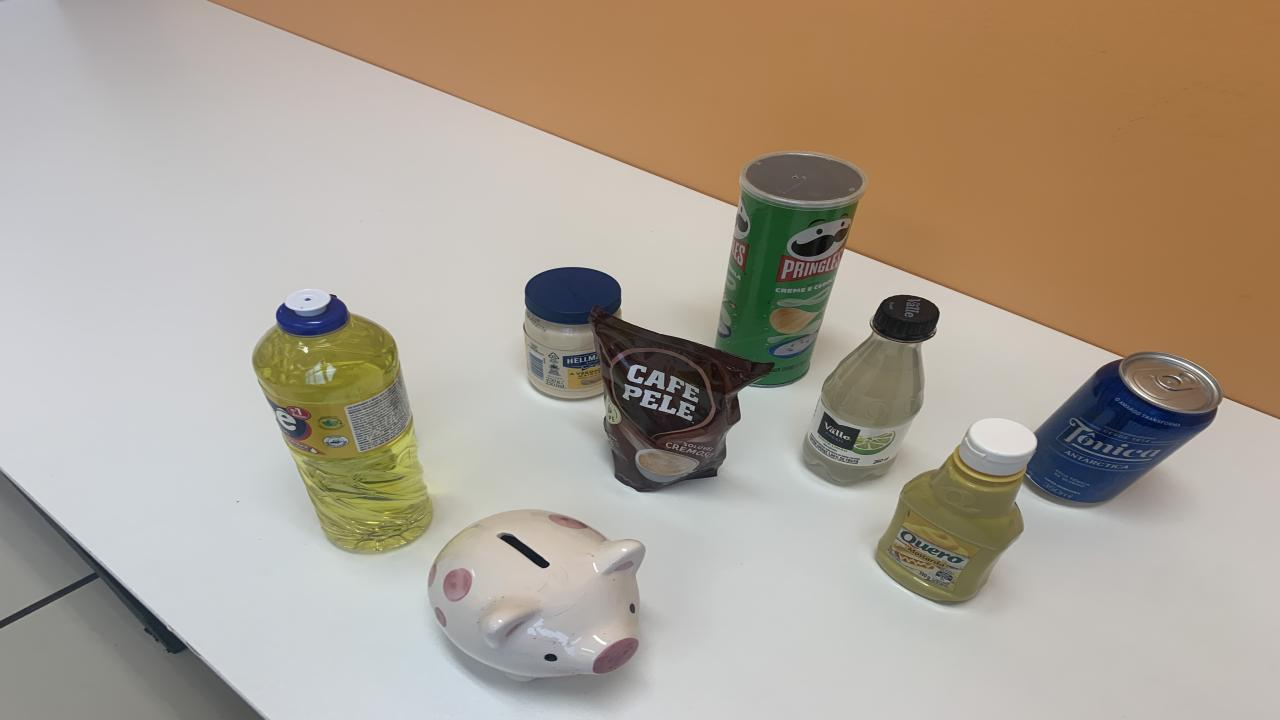Coffee-Pantry_Items: (590, 308, 772, 491)
Detergent-Cleanup_Items: (252, 289, 432, 551)
Mayonnaise-Pantry_Items: (522, 266, 620, 399)
Mustard-Pantry_Items: (878, 418, 1038, 602)
Pig_Safe-Miscellaneous: (428, 510, 645, 682)
Pringles-Snacks: (715, 152, 868, 386)
Soda-Drinks: (802, 294, 940, 484)
Tonic-Drinks: (1028, 352, 1222, 504)
